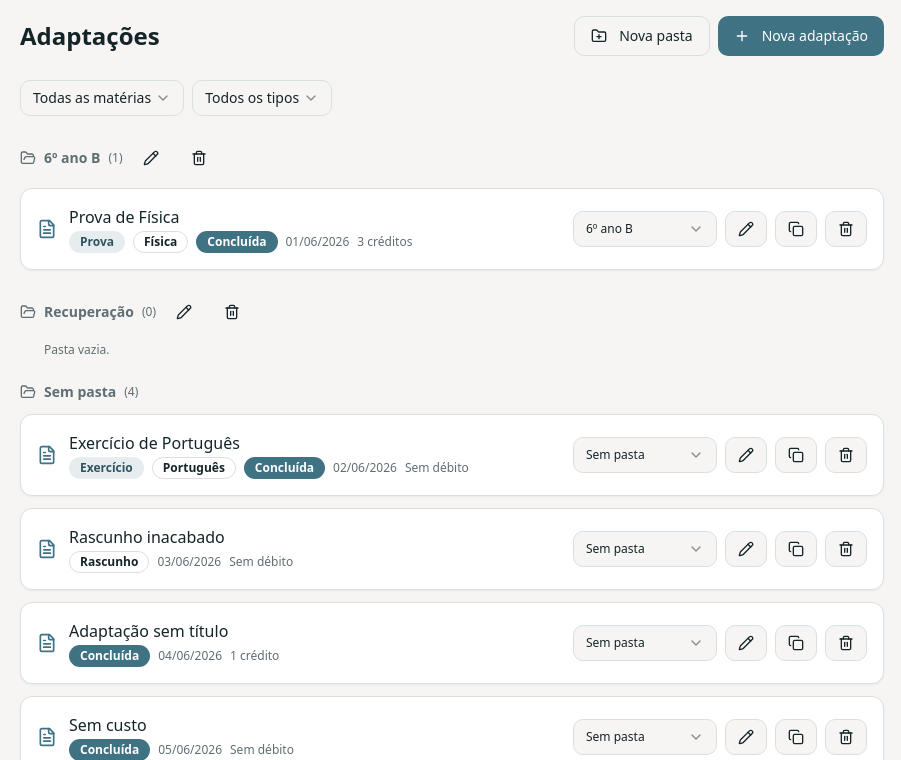
Scenario: AdaptacoesPage › pastas › will not create a folder with a blank name
The width and height of the screenshot is (901, 760).
Click the button "Nova pasta" at (642, 36), box [574,16,710,56]
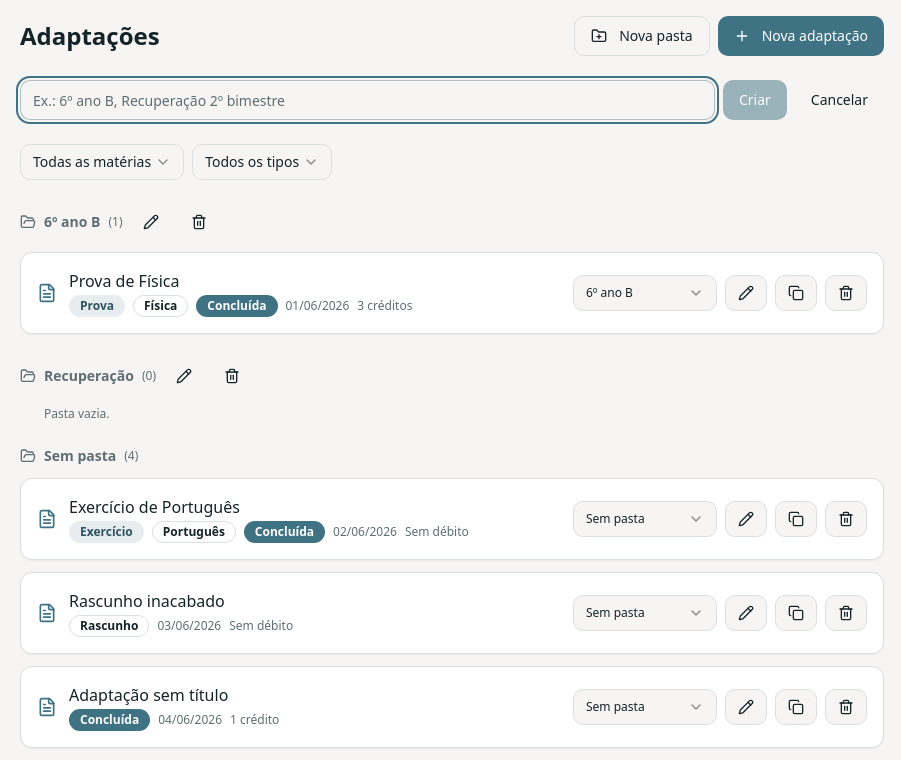
Expected: the button "Criar" is disabled, [723,80,787,120]
